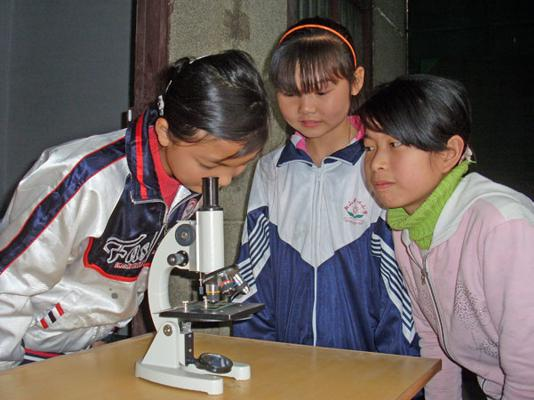person: (3, 52, 267, 372)
